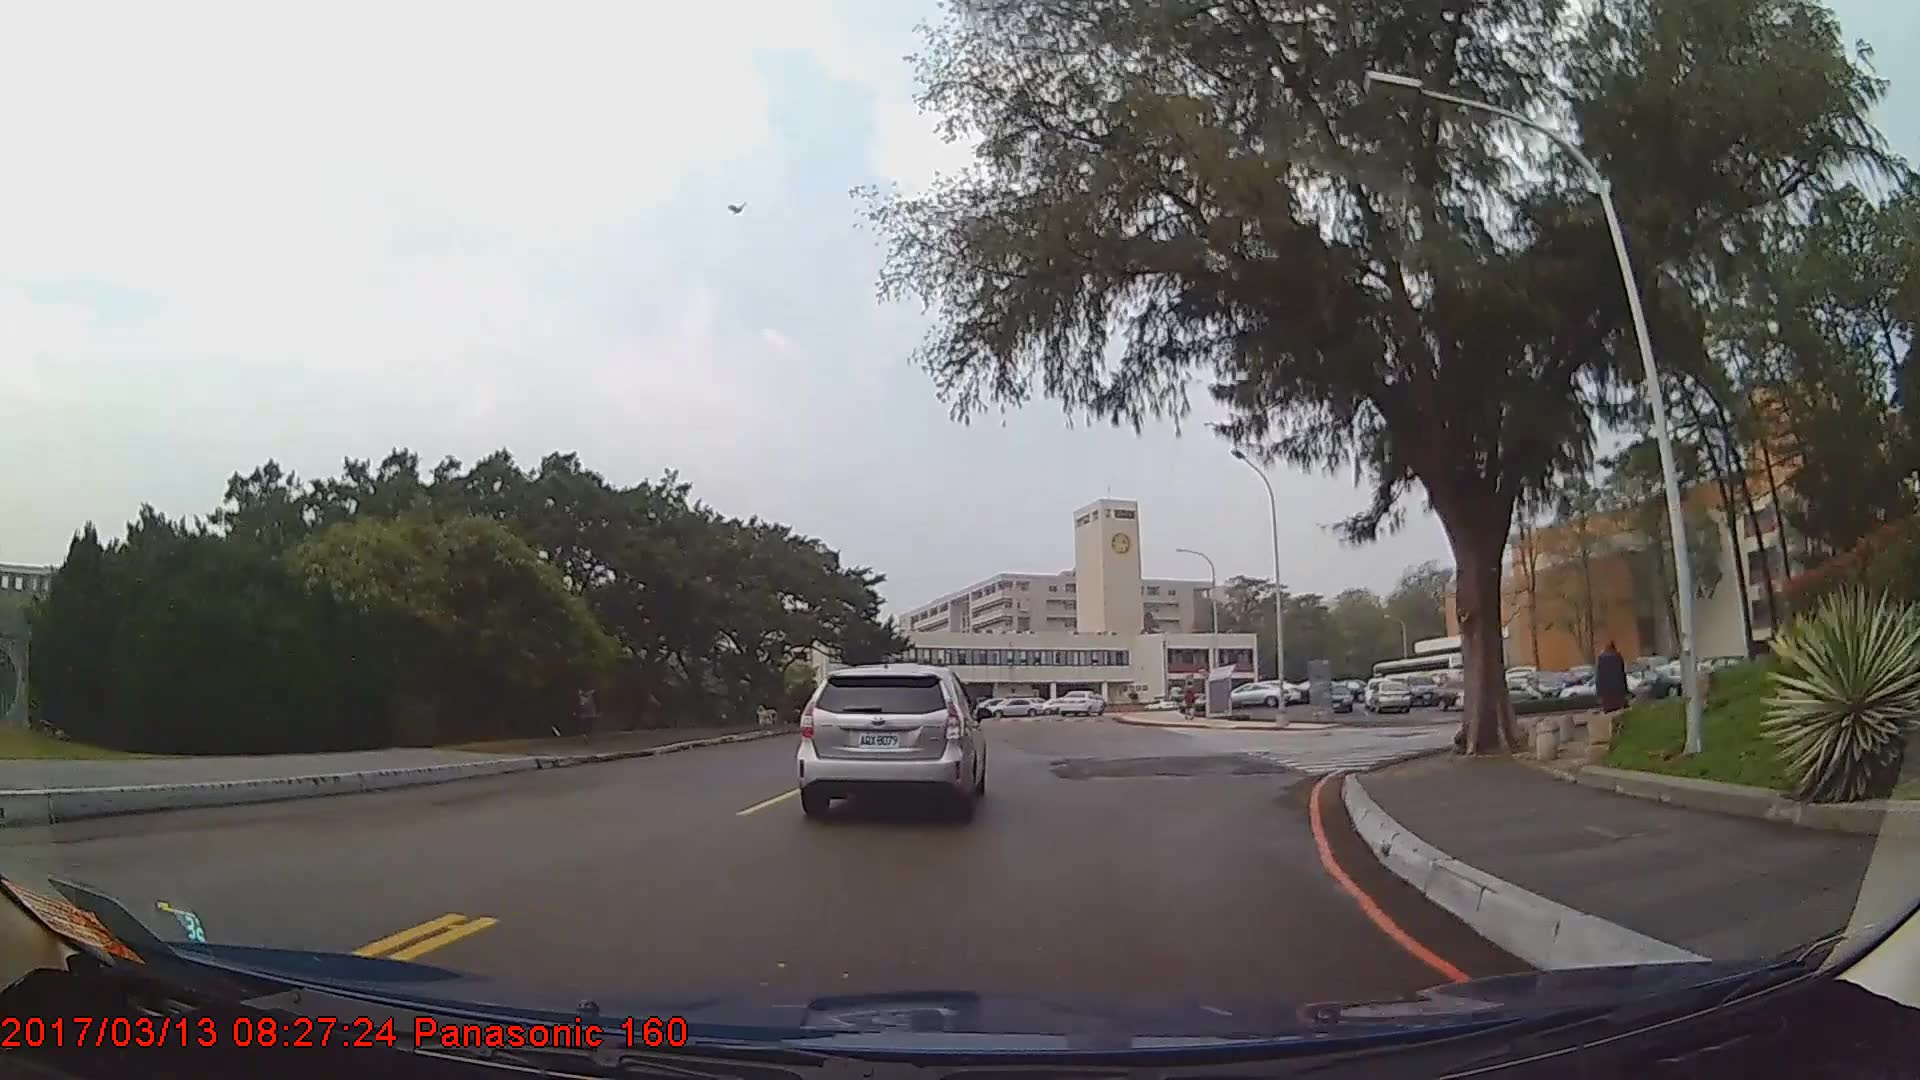pedestrian: (1594, 634, 1631, 750)
vehicle: (798, 660, 986, 819), (1456, 679, 1546, 714), (1221, 680, 1290, 705), (1370, 680, 1414, 716), (1054, 691, 1105, 720), (982, 697, 1041, 719), (1402, 672, 1440, 704), (1321, 685, 1354, 714)
